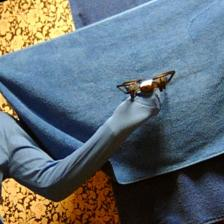drone: (115, 69, 178, 103)
